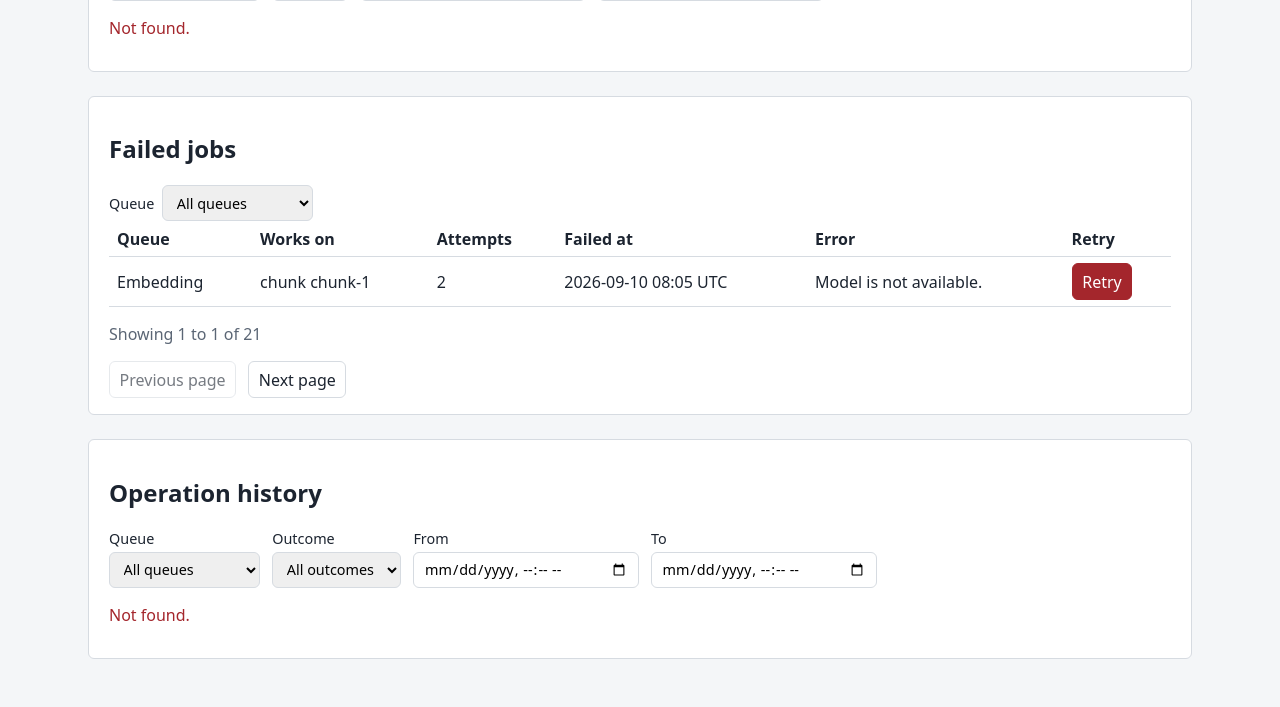
Test case: failed job recovery › pages failed jobs
(page scrolled)
Check: the text "Model is not available." is shown, box [807,256,1064,307]
Step 1. Click the button "Next page" → (297, 380), box [248,362,346,398]
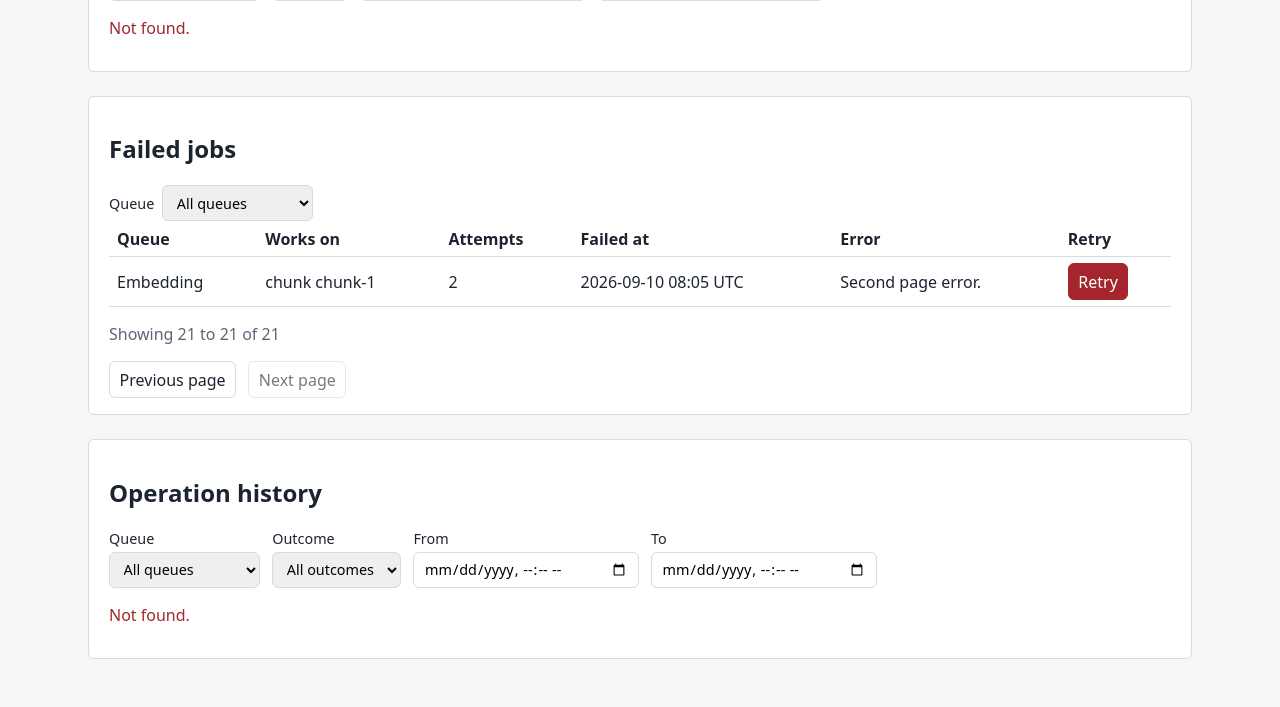
Check: the text "Second page error." is shown, box [832,256,1060,307]
